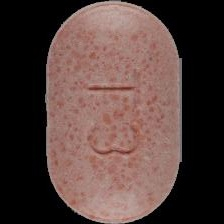21695-780: (0, 0, 224, 224)
